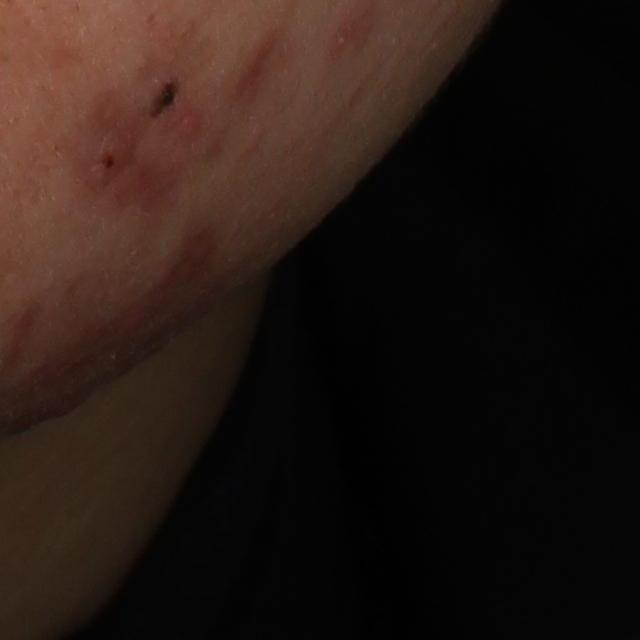nevus: (148, 79, 178, 117)
papule: (90, 133, 132, 185)
